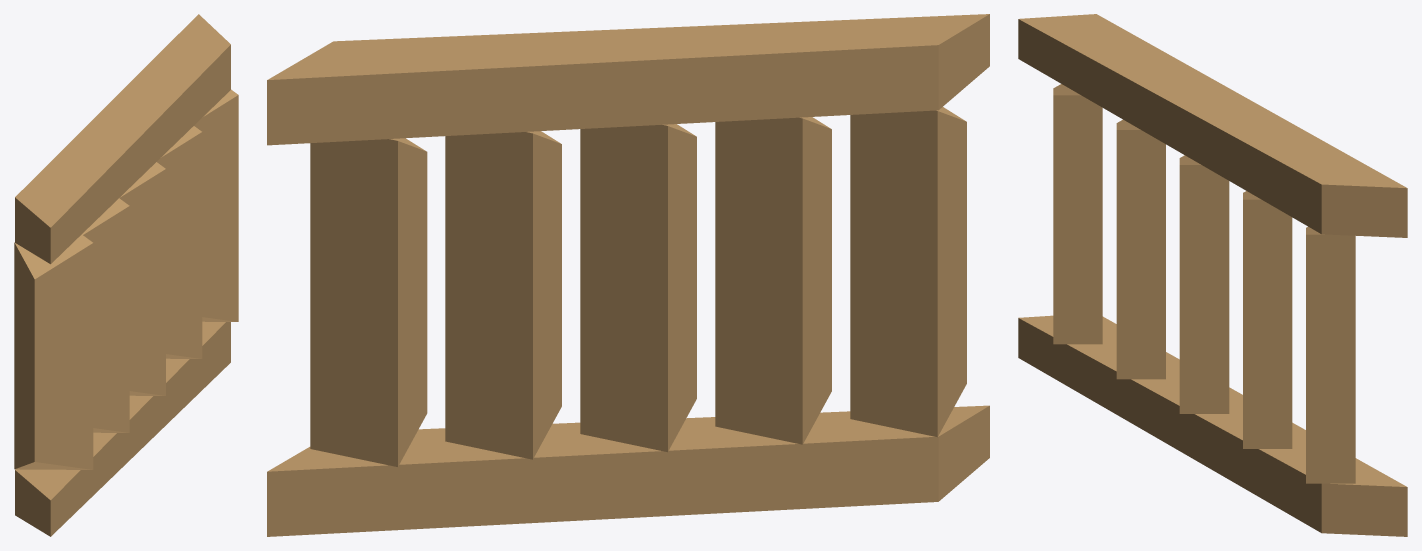
The model's file is shortstairs.fbx.
3 renders of one model, left to right at view 1: azimuth 30°, elevation 25°; view 2: azimuth 150°, elevation 25°; view 3: azimuth 270°, elevation 25°, orthographic. The views are drawn at different scales.
Visible parts, largest first — view 1: treads.020; view 2: treads.020; view 3: treads.020.
Boxes of the visible parts, left/top/right/bottom form: treads.020: left=14, top=14, right=238, bottom=536; treads.020: left=267, top=14, right=989, bottom=536; treads.020: left=1018, top=14, right=1407, bottom=536.
Size of the model in its own units: 150 by 140 by 142.
